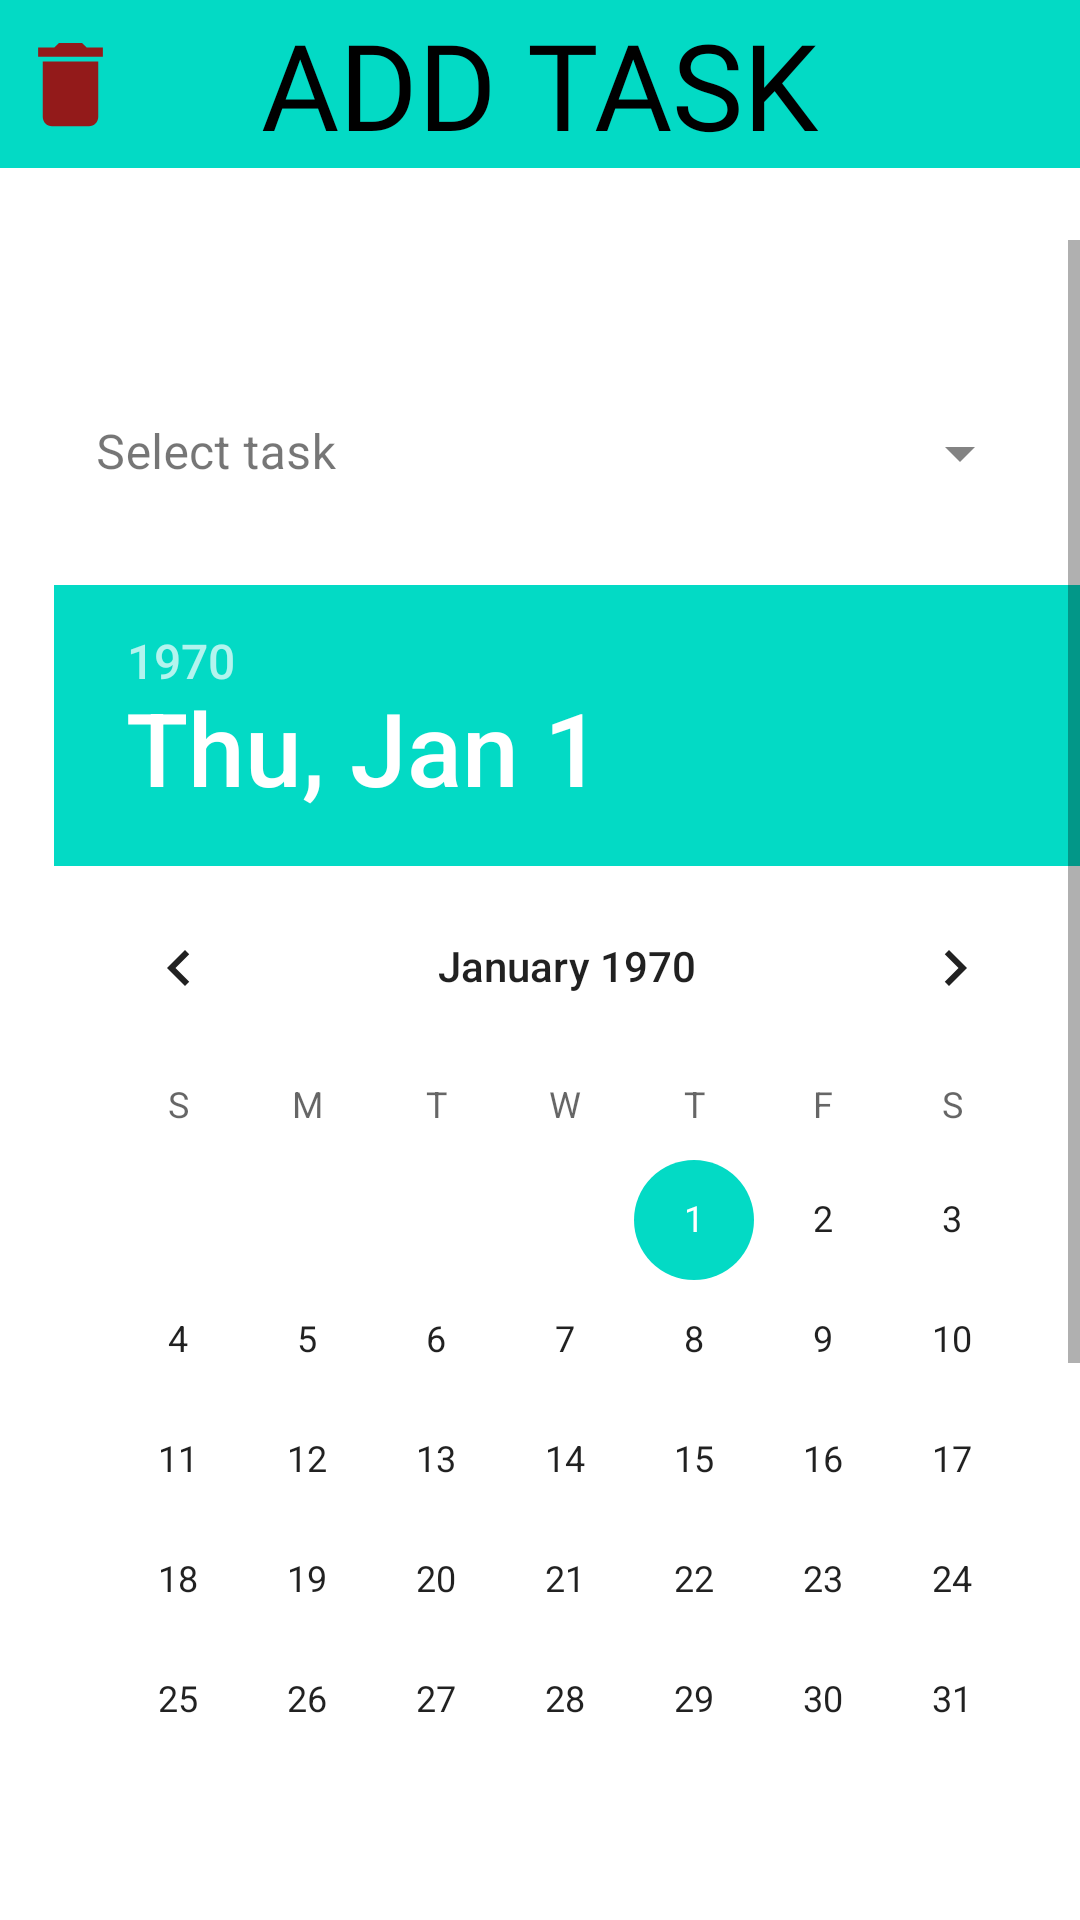

Named icons in this screenshot (1080px×1920px) and their centers, [x,y]:
delete: [70,85]
